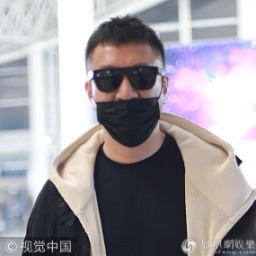incorrectlyWear: (83, 50, 168, 148)
